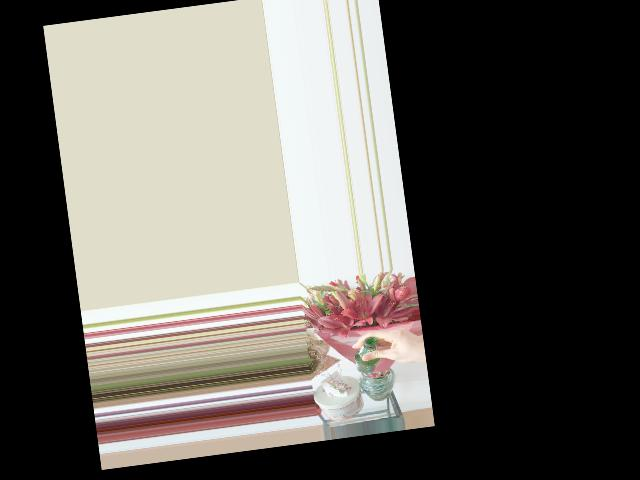beer: (352, 336, 383, 374)
